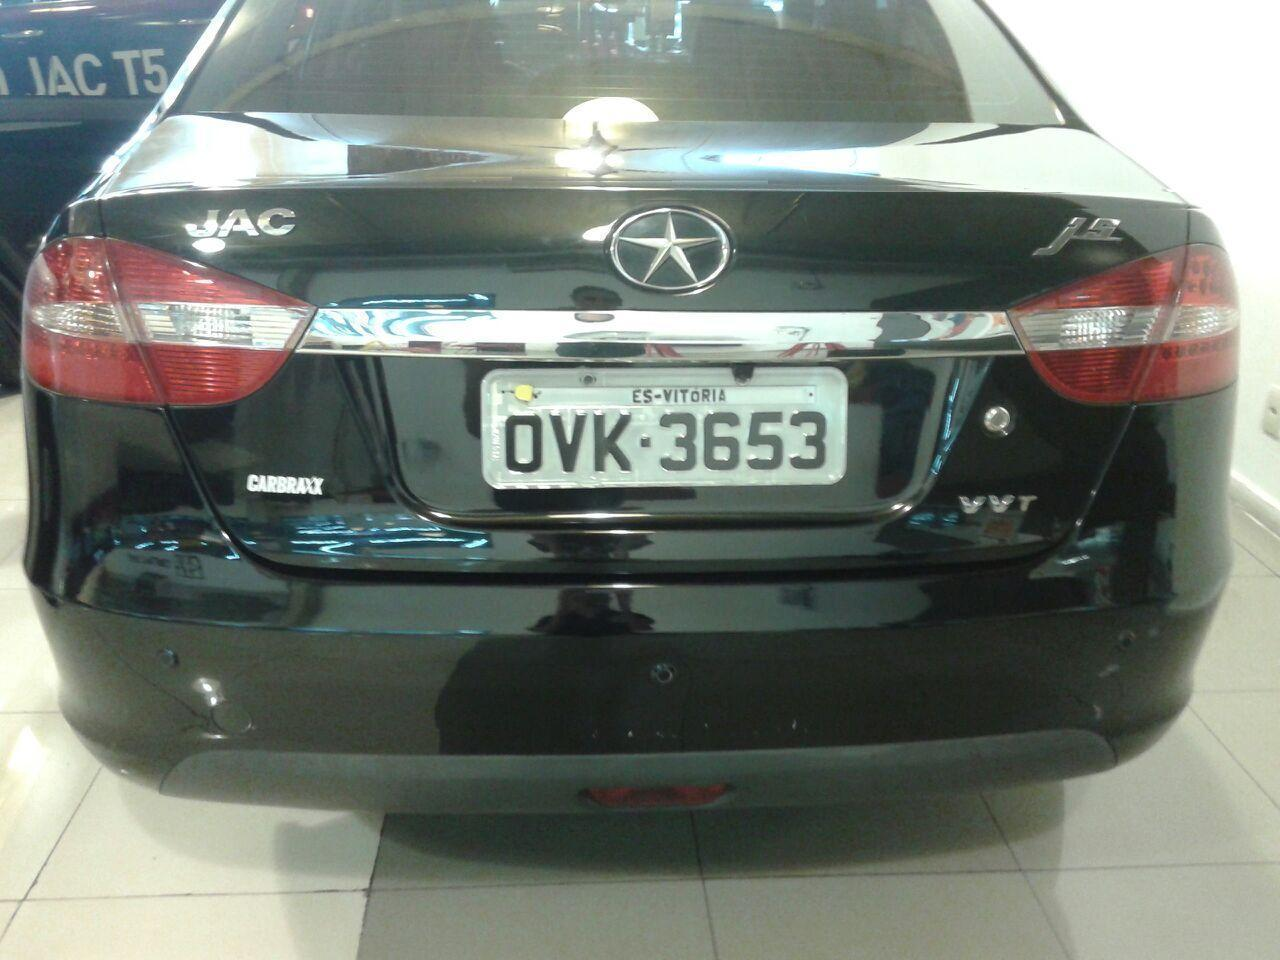placa de veiculo: (453, 342, 873, 520)
